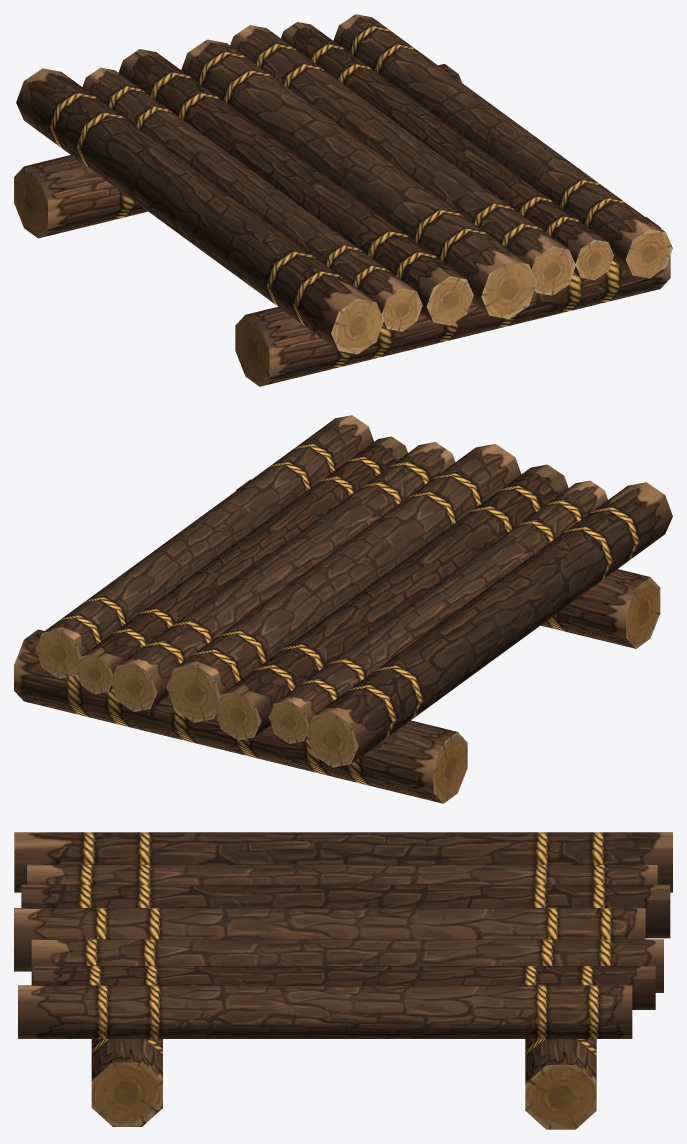
Rendered from raft01.fbx.
3 renders of one model, top to bottom at view 1: azimuth 30°, elevation 25°; view 2: azimuth 150°, elevation 25°; view 3: azimuth 270°, elevation 25°, orthographic. The views are drawn at different scales.
Parts seen in each view (by area): view 1: raft01; view 2: raft01; view 3: raft01.
Part boxes in pixels (x1=…): raft01: x1=14, y1=14, x2=672, y2=386; raft01: x1=14, y1=415, x2=672, y2=803; raft01: x1=14, y1=832, x2=672, y2=1129.
Bounding box in the file's own units: 278 × 70.33 × 360.
